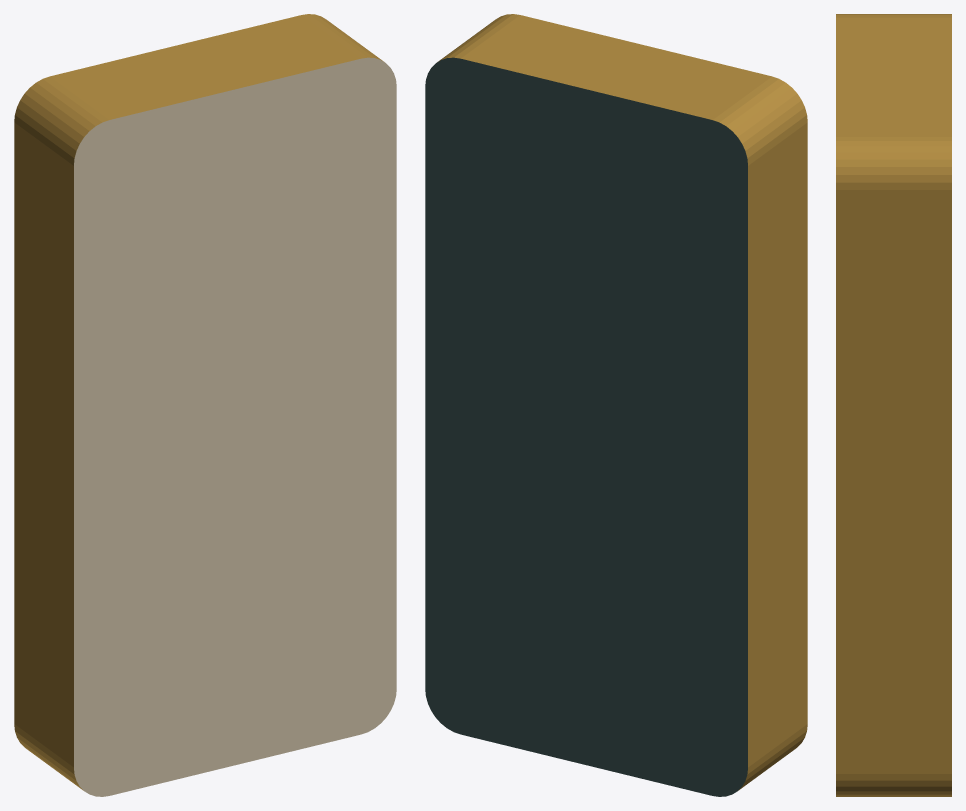
The model's file is RoundedDomino_Clean.obj.
The picture shows the model from 3 angles, left to right: view 1: azimuth 30°, elevation 25°; view 2: azimuth 150°, elevation 25°; view 3: azimuth 270°, elevation 25°; orthographic projection. The views are drawn at different scales.
Parts seen in each view (by area): view 1: RoundedDomino_Clean; view 2: RoundedDomino_Clean; view 3: RoundedDomino_Clean.
Boxes of the visible parts, x1,y1,x2,y2 form: RoundedDomino_Clean: [14, 14, 396, 796]; RoundedDomino_Clean: [425, 14, 807, 796]; RoundedDomino_Clean: [836, 14, 951, 796].
Bounding box in the file's own units: 0.5 × 1 × 0.16.
